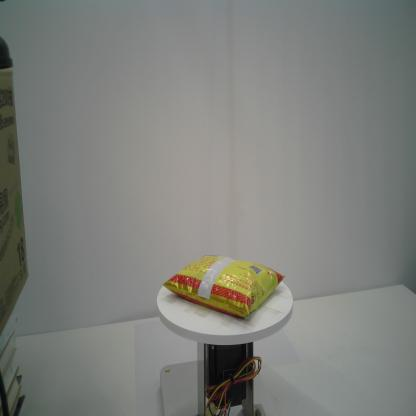Seasoner: (162, 254, 287, 318)
